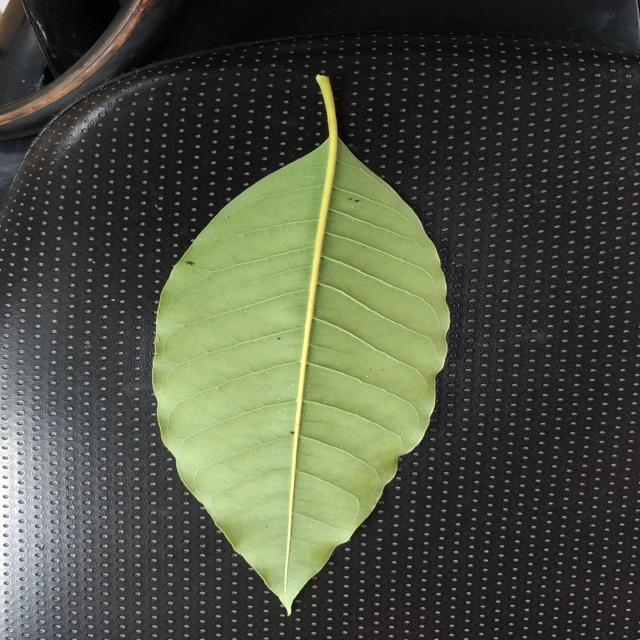coffee: (153, 75, 449, 609)
